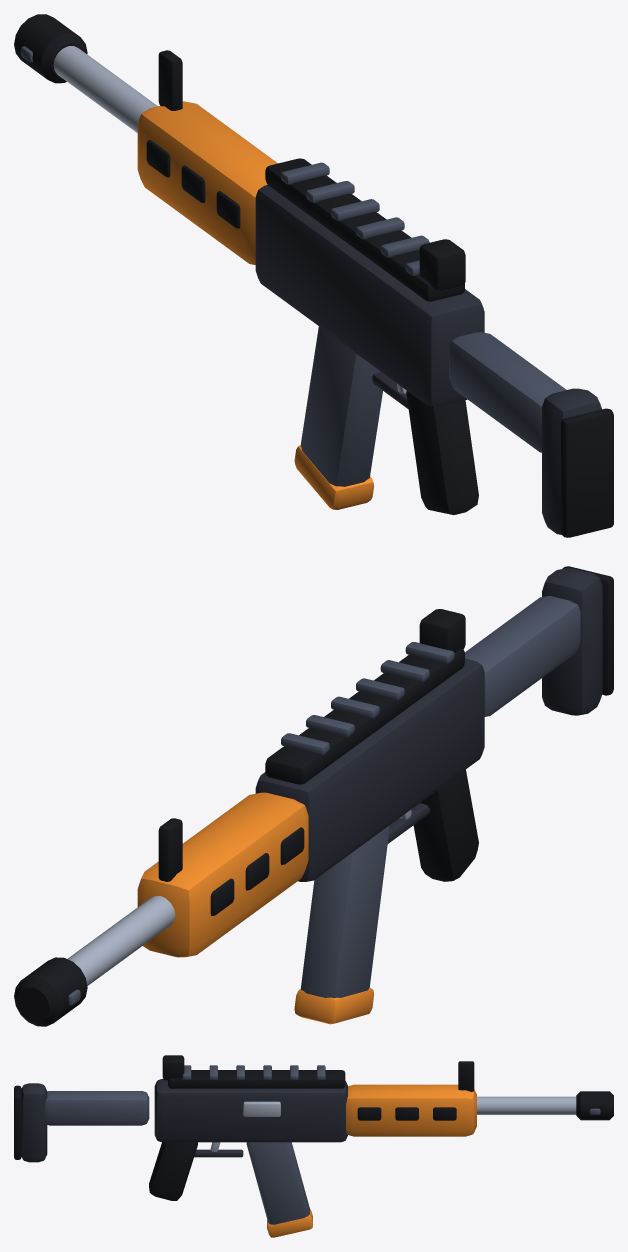
Rendered from rattler.glb.
The picture shows the model from 3 angles, top to bottom: view 1: azimuth 30°, elevation 25°; view 2: azimuth 150°, elevation 25°; view 3: azimuth 270°, elevation 25°; orthographic projection. The views are drawn at different scales.
Parts seen in each view (by area): view 1: rattler; view 2: rattler; view 3: rattler.
Boxes of the visible parts, x1,y1,x2,y2 form: rattler: [14, 14, 613, 537]; rattler: [14, 566, 613, 1026]; rattler: [14, 1055, 613, 1237].
Bounding box in the file's own units: 0.083 × 0.3609 × 1.12.
